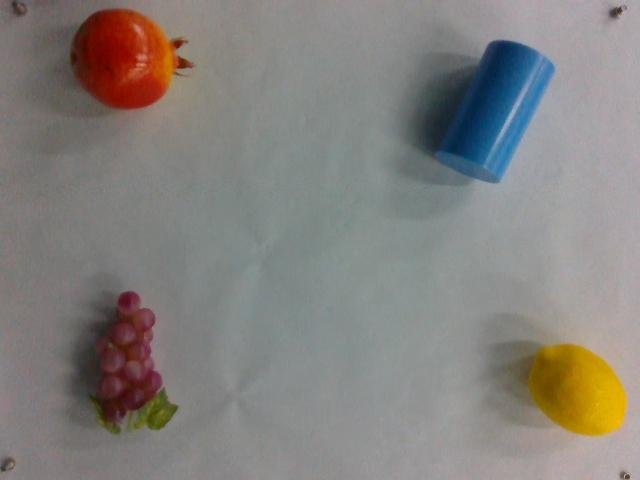cylinder: (436, 37, 555, 185)
grape: (88, 286, 175, 434)
lemon: (522, 337, 630, 439)
pomegranate: (68, 8, 194, 110)
